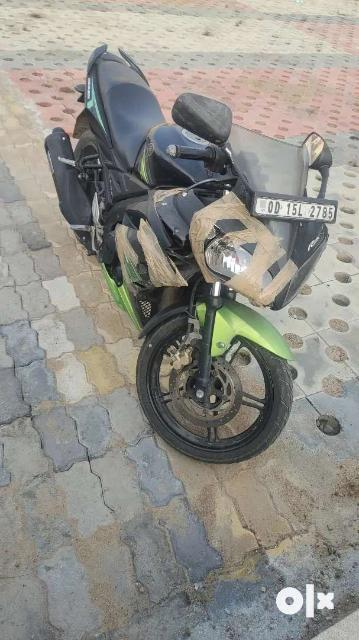Indian_Number_Plate: (256, 194, 337, 221)
